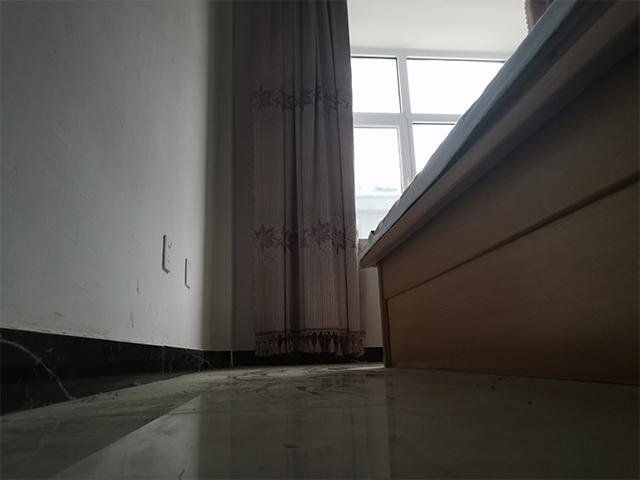bed: (355, 1, 639, 387)
curtain: (245, 1, 368, 364)
